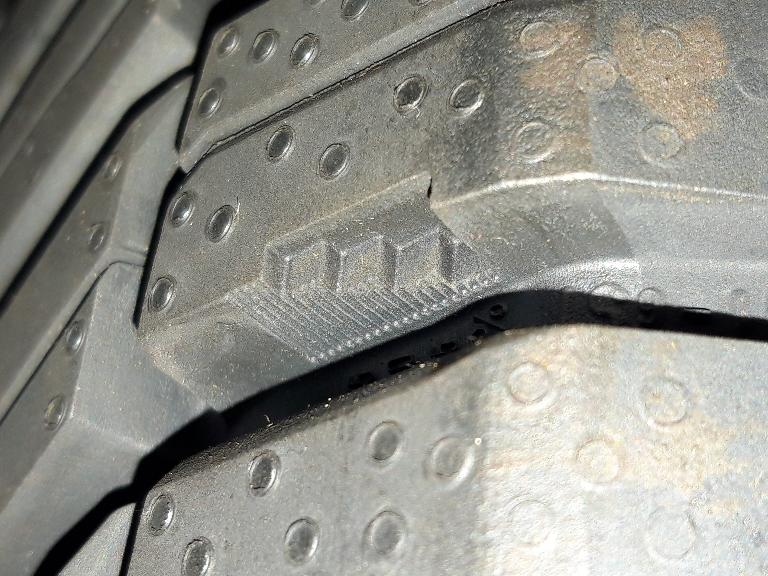temoin:100: (214, 160, 515, 376)
